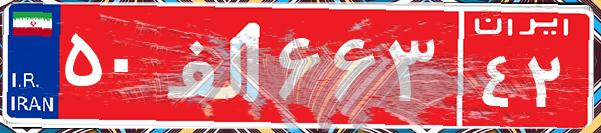0: (110, 28, 158, 105)
2: (525, 38, 570, 115)
3: (385, 28, 445, 110)
4: (475, 38, 525, 113)
5: (57, 26, 110, 107)
6: (273, 28, 330, 110), (330, 28, 385, 110)
الف: (158, 15, 273, 115)
